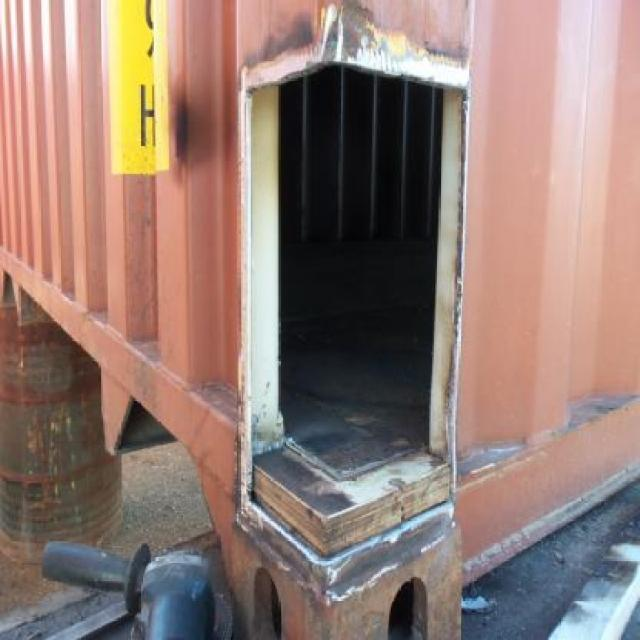hole: (241, 52, 472, 571)
rust: (240, 1, 472, 69)
